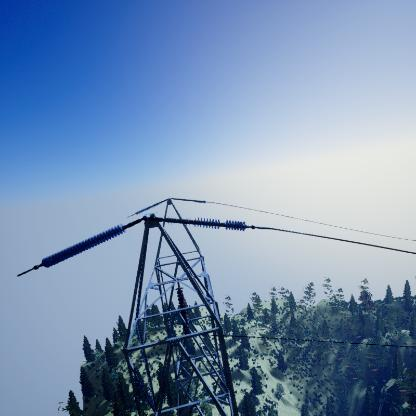insulator: (42, 224, 125, 267), (152, 217, 247, 232)
